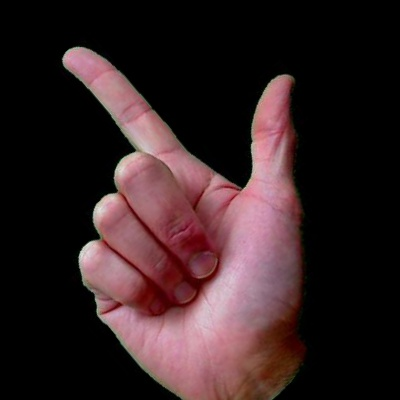l: (3, 3, 400, 396)
